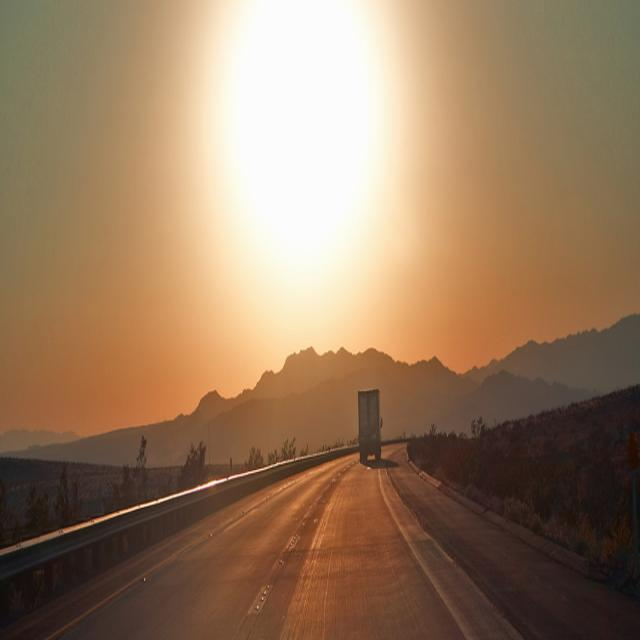sun: (182, 3, 425, 339)
